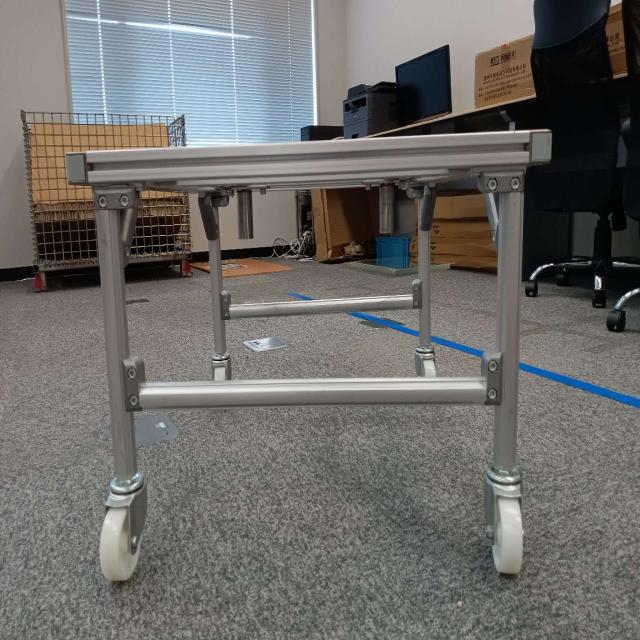side: (94, 138, 513, 413)
